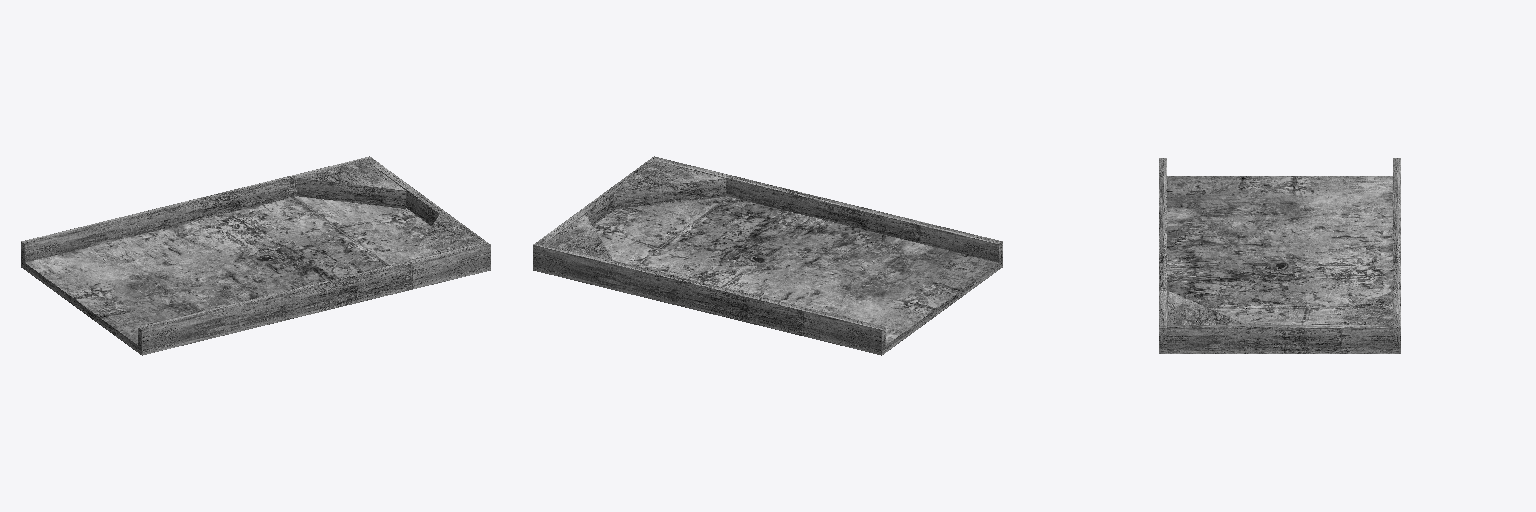
The picture shows the model from 3 angles: view 1: azimuth 30°, elevation 25°; view 2: azimuth 150°, elevation 25°; view 3: azimuth 270°, elevation 25°; orthographic projection.
Parts seen in each view (by area): view 1: Box001, Box003, Box002, Prism002, Prism001, Box004; view 2: Box001, Box002, Box003, Prism001, Prism002, Box004; view 3: Box001, Box004, Box002, Box003, Prism002, Prism001.
Part boxes in pixels (x1,y1,x2,y2): Box001: (21, 196, 490, 355); Box003: (138, 242, 490, 347); Box002: (21, 156, 372, 262); Prism002: (297, 161, 405, 208); Prism001: (409, 214, 479, 260); Box004: (368, 159, 485, 243); Box001: (533, 196, 1002, 355); Box002: (533, 242, 885, 347); Box003: (651, 156, 1002, 262); Prism001: (617, 161, 725, 208); Prism002: (544, 215, 613, 260); Box004: (538, 159, 655, 243); Box001: (1159, 176, 1400, 353); Box004: (1167, 325, 1392, 346); Box002: (1393, 158, 1400, 346); Box003: (1159, 158, 1166, 346); Prism002: (1312, 291, 1392, 324); Prism001: (1167, 291, 1246, 324).
Bounding box in the file's own units: 100 × 7 × 60.
1 materials, 1 textured.